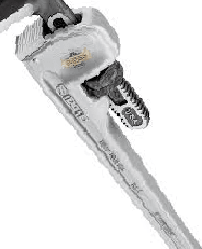Wrench: (3, 1, 202, 247)
